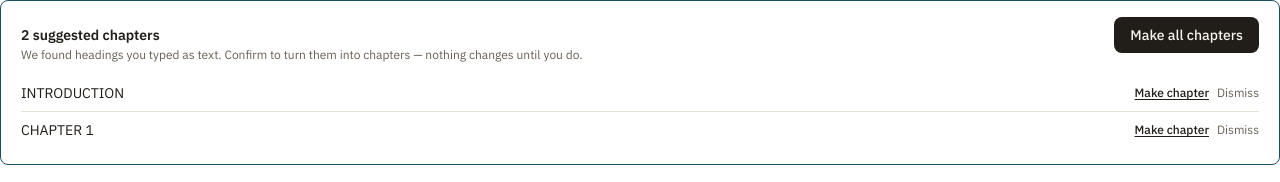
Test case: StructureSuggestionsPanel (STRUCTURE_ASSIST) › "Dismiss" removes a candidate from the list without promoting it (session-remembered)
Expected: the text "INTRODUCTION" is shown, [21,83,124,103]
Click the button "Dismiss" in the row of "INTRODUCTION" at [1238, 93], box [1217,85,1259,101]
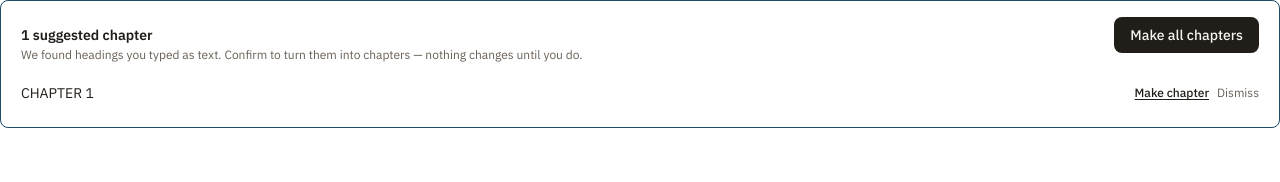
Expected: the text "CHAPTER 1" is shown, [21,83,94,103]
Expected: the text "INTRODUCTION" is gone
Expected: the heading "1 suggested chapter" is shown, [21,26,153,44]
